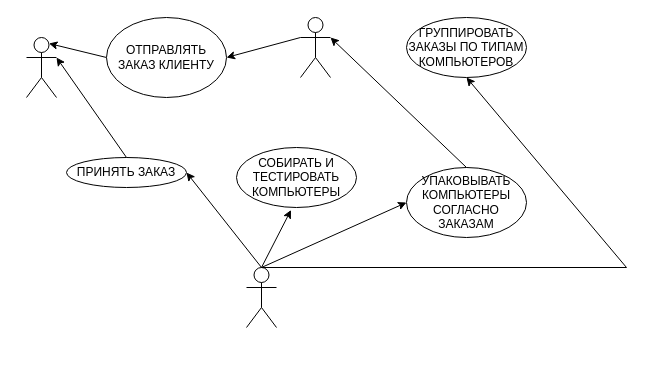
This 652x366 diagram has some shape labels left out. The shapes that lost their labels are listed below. From the top down, each one's centre as x and y in pixels, then its label:
At point 41,67: "КЛИЕНТ".
At point 315,47: "КЛАДОВЩИК".
At point 261,297: "СОТРУДНИК".
